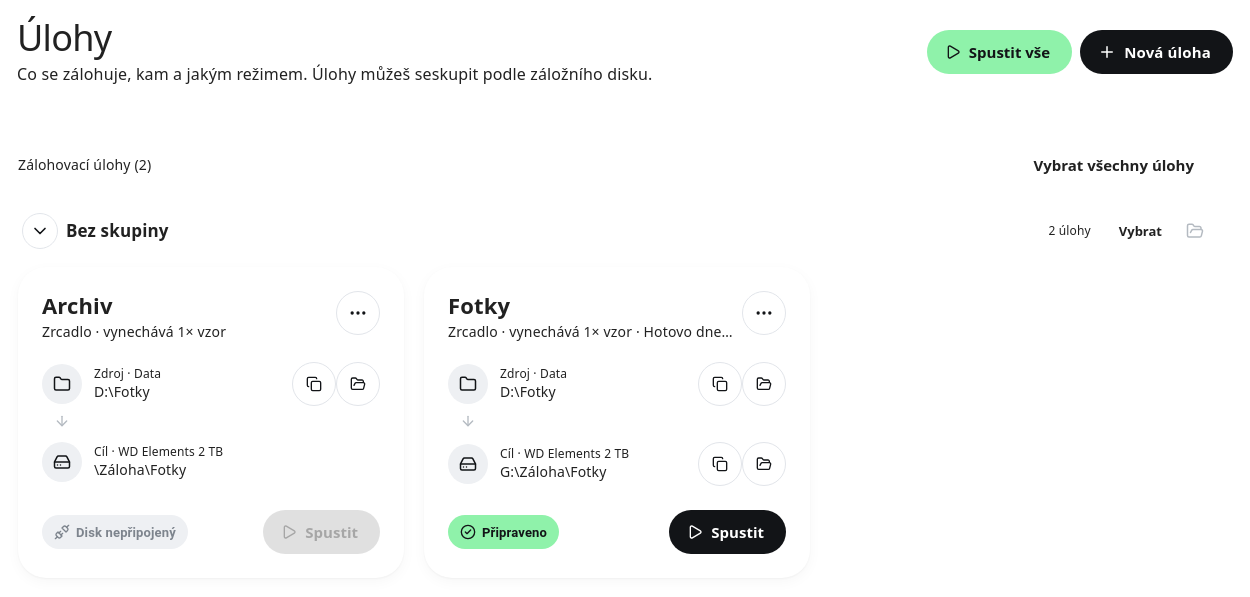
it: JobsPage › selects every job, or only the jobs in one group
Expected: the element "Fotky" is shown, [424, 267, 810, 578]
Click the button with aria-label "Vybrat skupinu Bez skupiny". click: (1140, 231)
box: [1103, 214, 1178, 248]
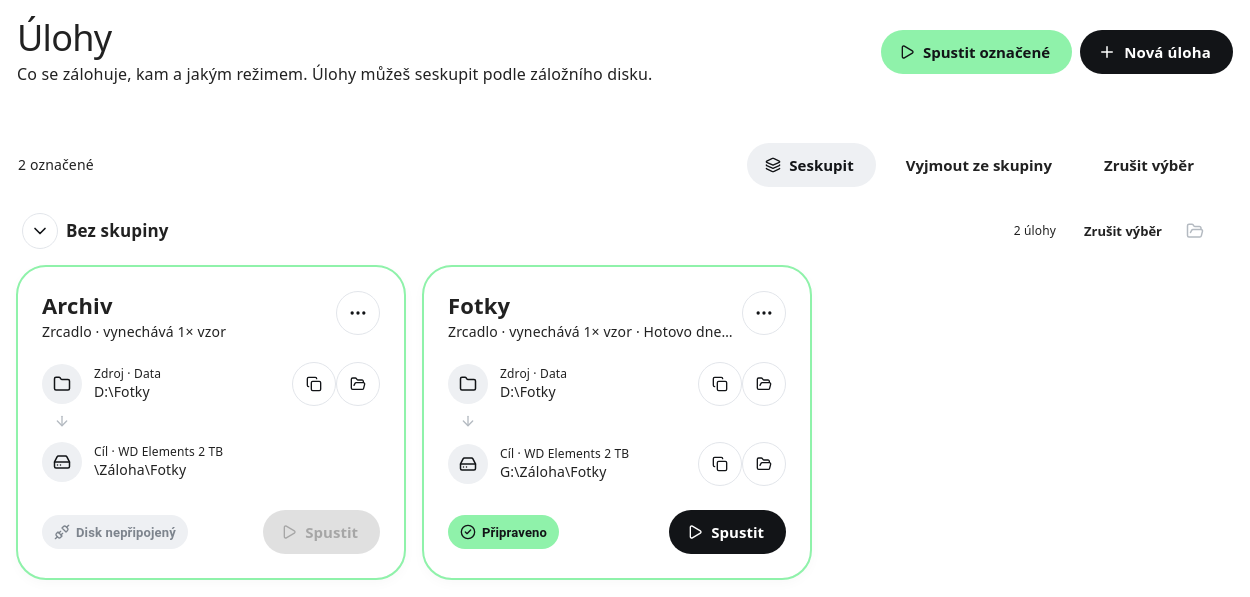
Expected: the element "Fotky" is selected, [424, 267, 810, 578]
Expected: the element "Archiv" is selected, [18, 267, 404, 578]
Click the button with aria-label "Zrušit výběr skupiny Bez skupiny". click: (1123, 231)
box: [1068, 214, 1178, 248]
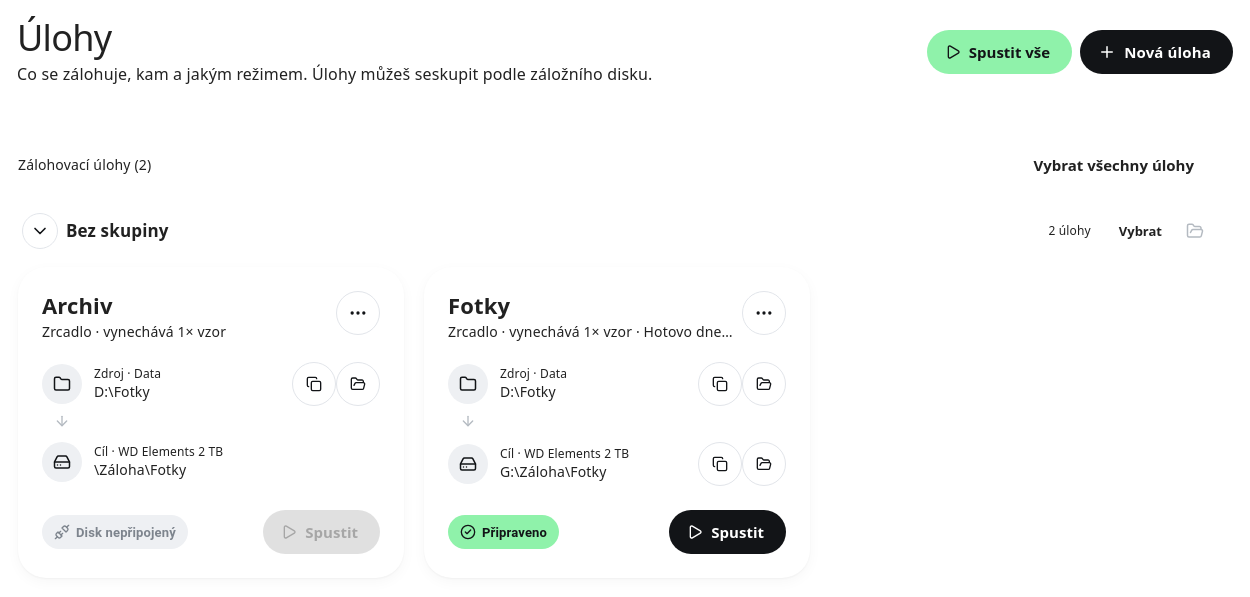
Expected: the element "Fotky" is not selected, [424, 267, 810, 578]
Click the button "Vybrat všechny úlohy". click: (1114, 165)
box: [1011, 143, 1216, 187]
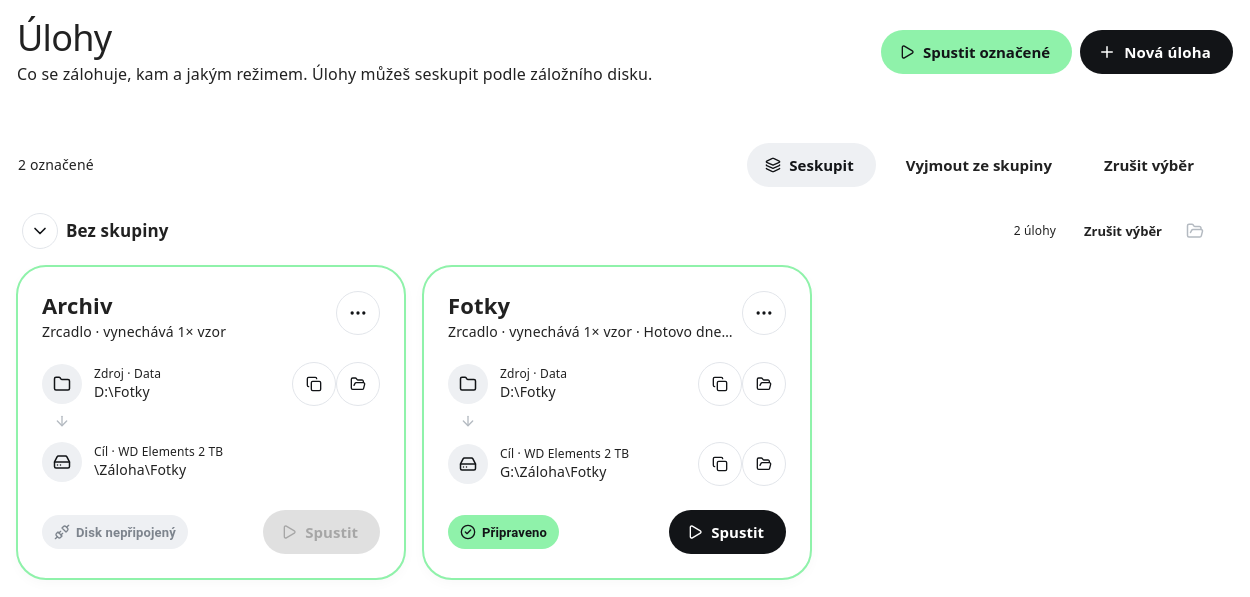
Expected: the button "Zrušit výběr" in the row of "2 označené" is shown, [1082, 143, 1216, 187]
